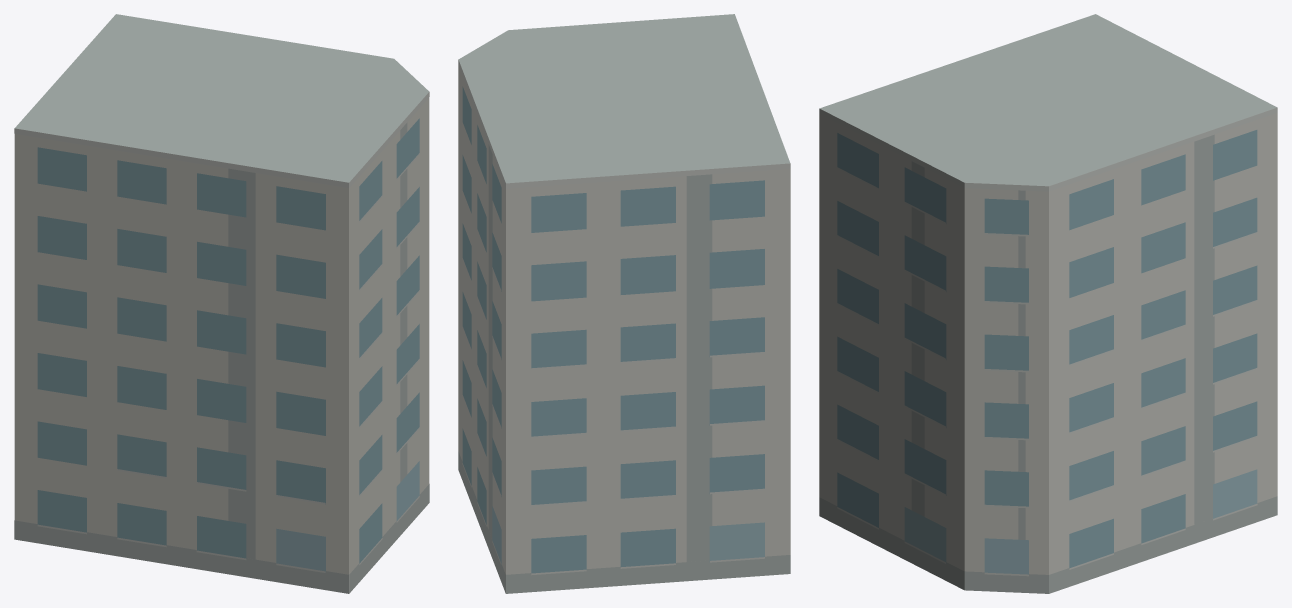
File: survey-upis-32929293.glb
The picture shows the model from 3 angles, left to right: view 1: azimuth 30°, elevation 25°; view 2: azimuth 150°, elevation 25°; view 3: azimuth 270°, elevation 25°; orthographic projection.
Visible parts, largest first — view 1: survey-upis-32929293.tmp; view 2: survey-upis-32929293.tmp; view 3: survey-upis-32929293.tmp.
Part boxes in pixels (x1,y1,x2,y2): survey-upis-32929293.tmp: (14,14,429,593); survey-upis-32929293.tmp: (458,14,790,593); survey-upis-32929293.tmp: (819,14,1277,593).
Size of the model in its own units: 16.69 by 18.4 by 18.76.
